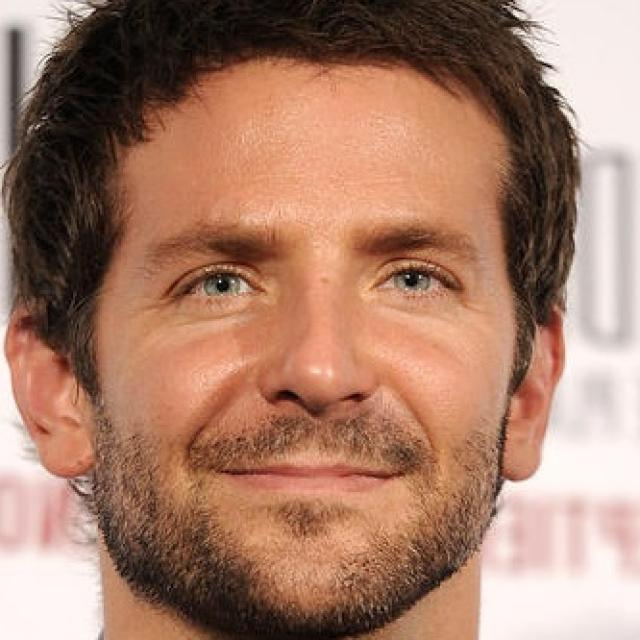Normal: (78, 54, 517, 636)
